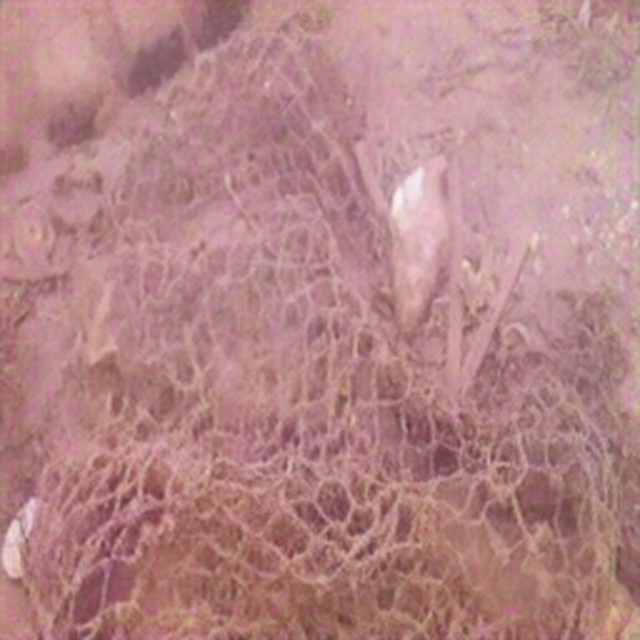mine: (19, 8, 629, 639)
